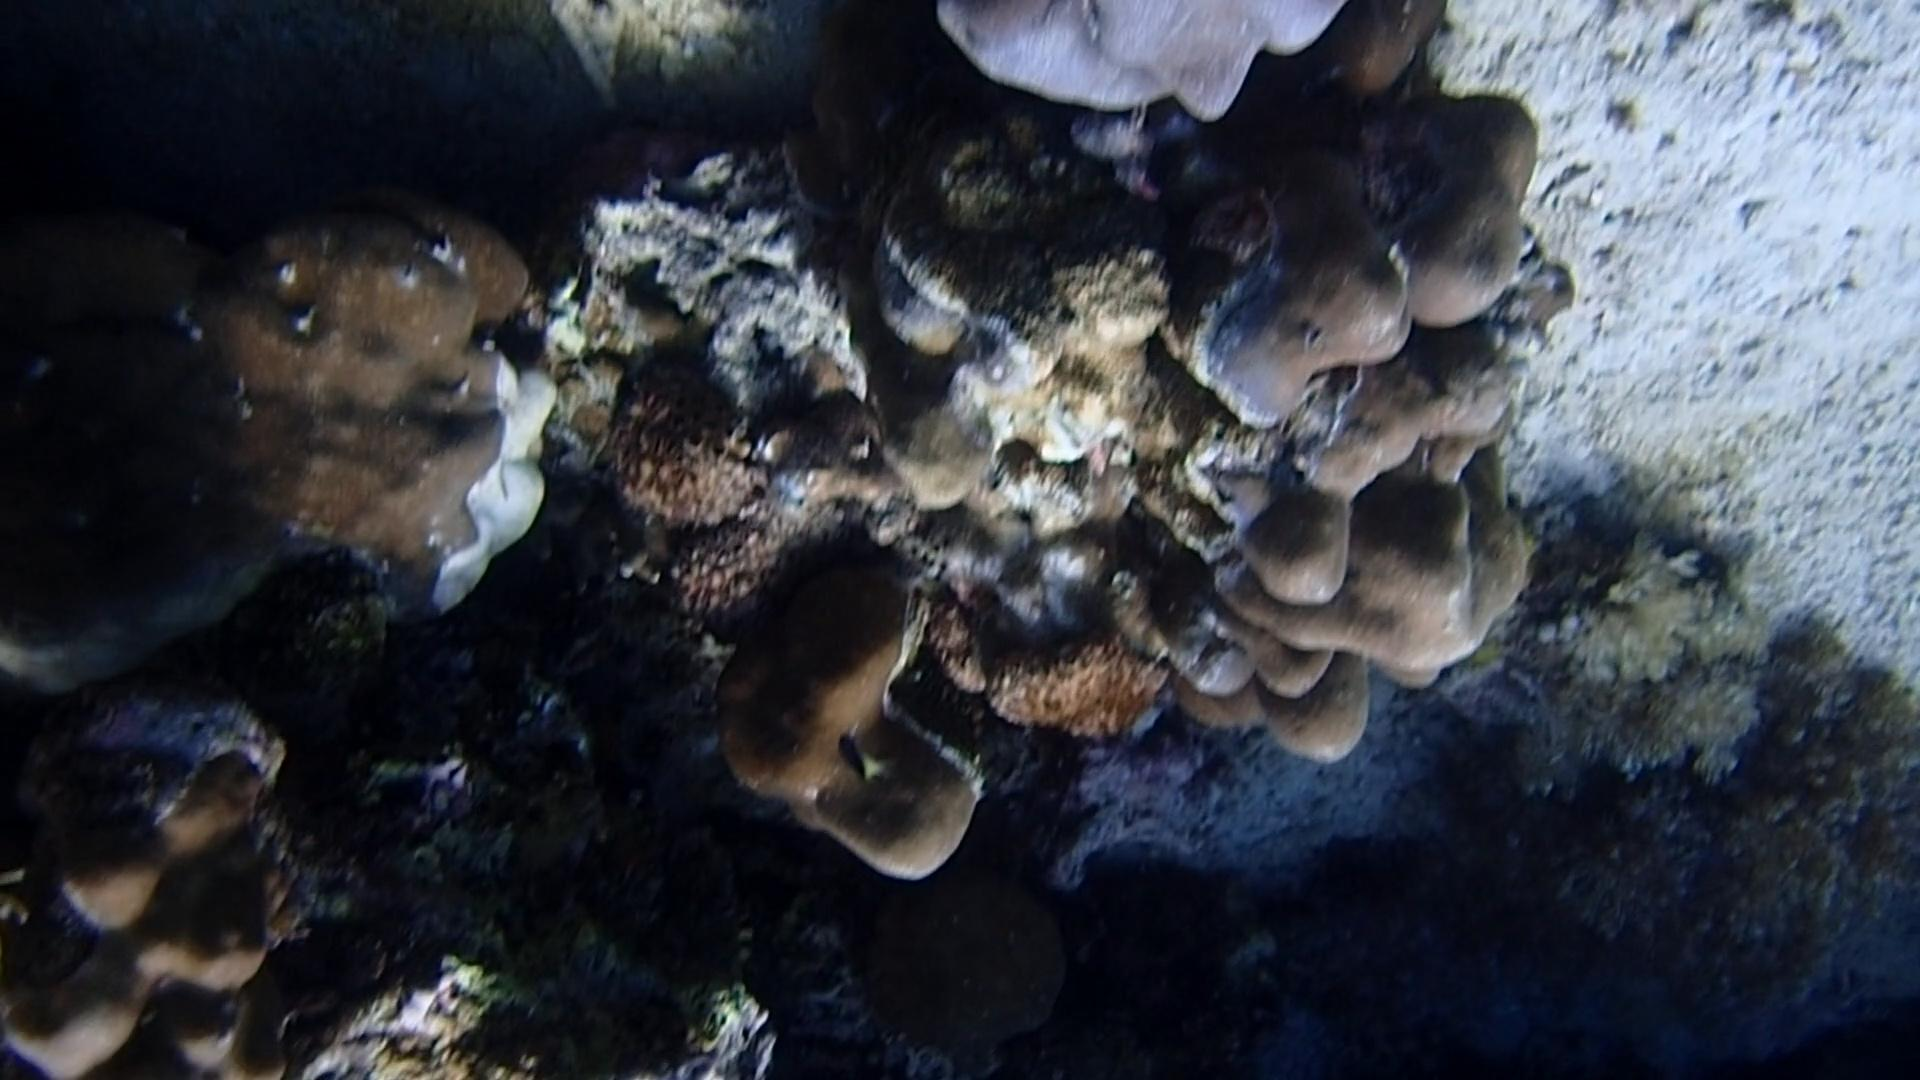Yellow Tail: (828, 719, 895, 789)
